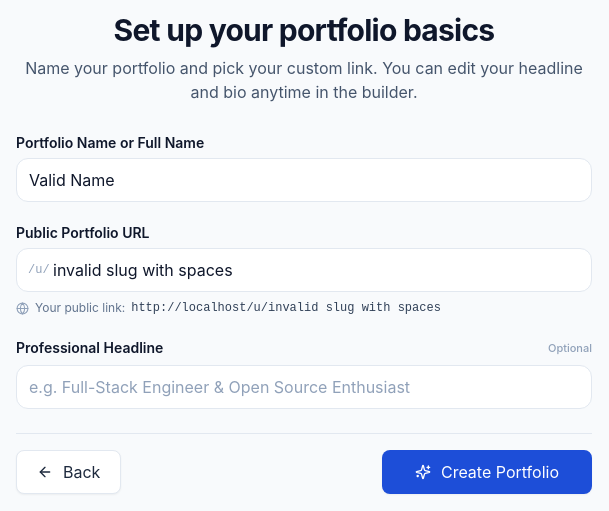
Test: Portfolio Onboarding Flow › Step 3: PortfolioBasicsStep › validates slug characters and rejects invalid formats
Click the button "Create Portfolio": {"x": 487, "y": 472} [382,450,592,494]
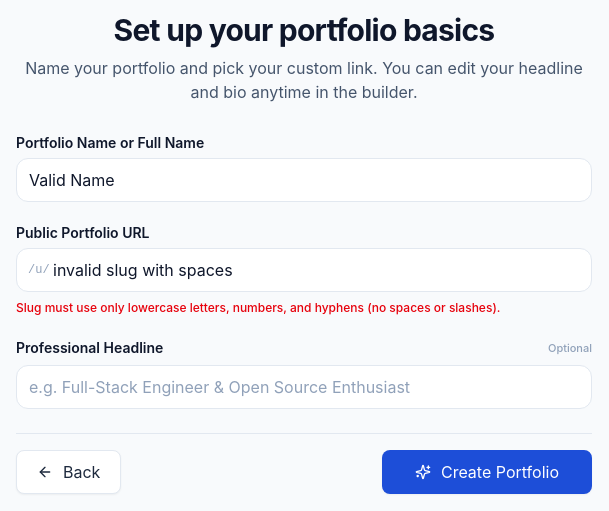
Check: the text "Slug must use only lowercase letters, numbers, and hyphens" is shown, box [16,300,500,315]
